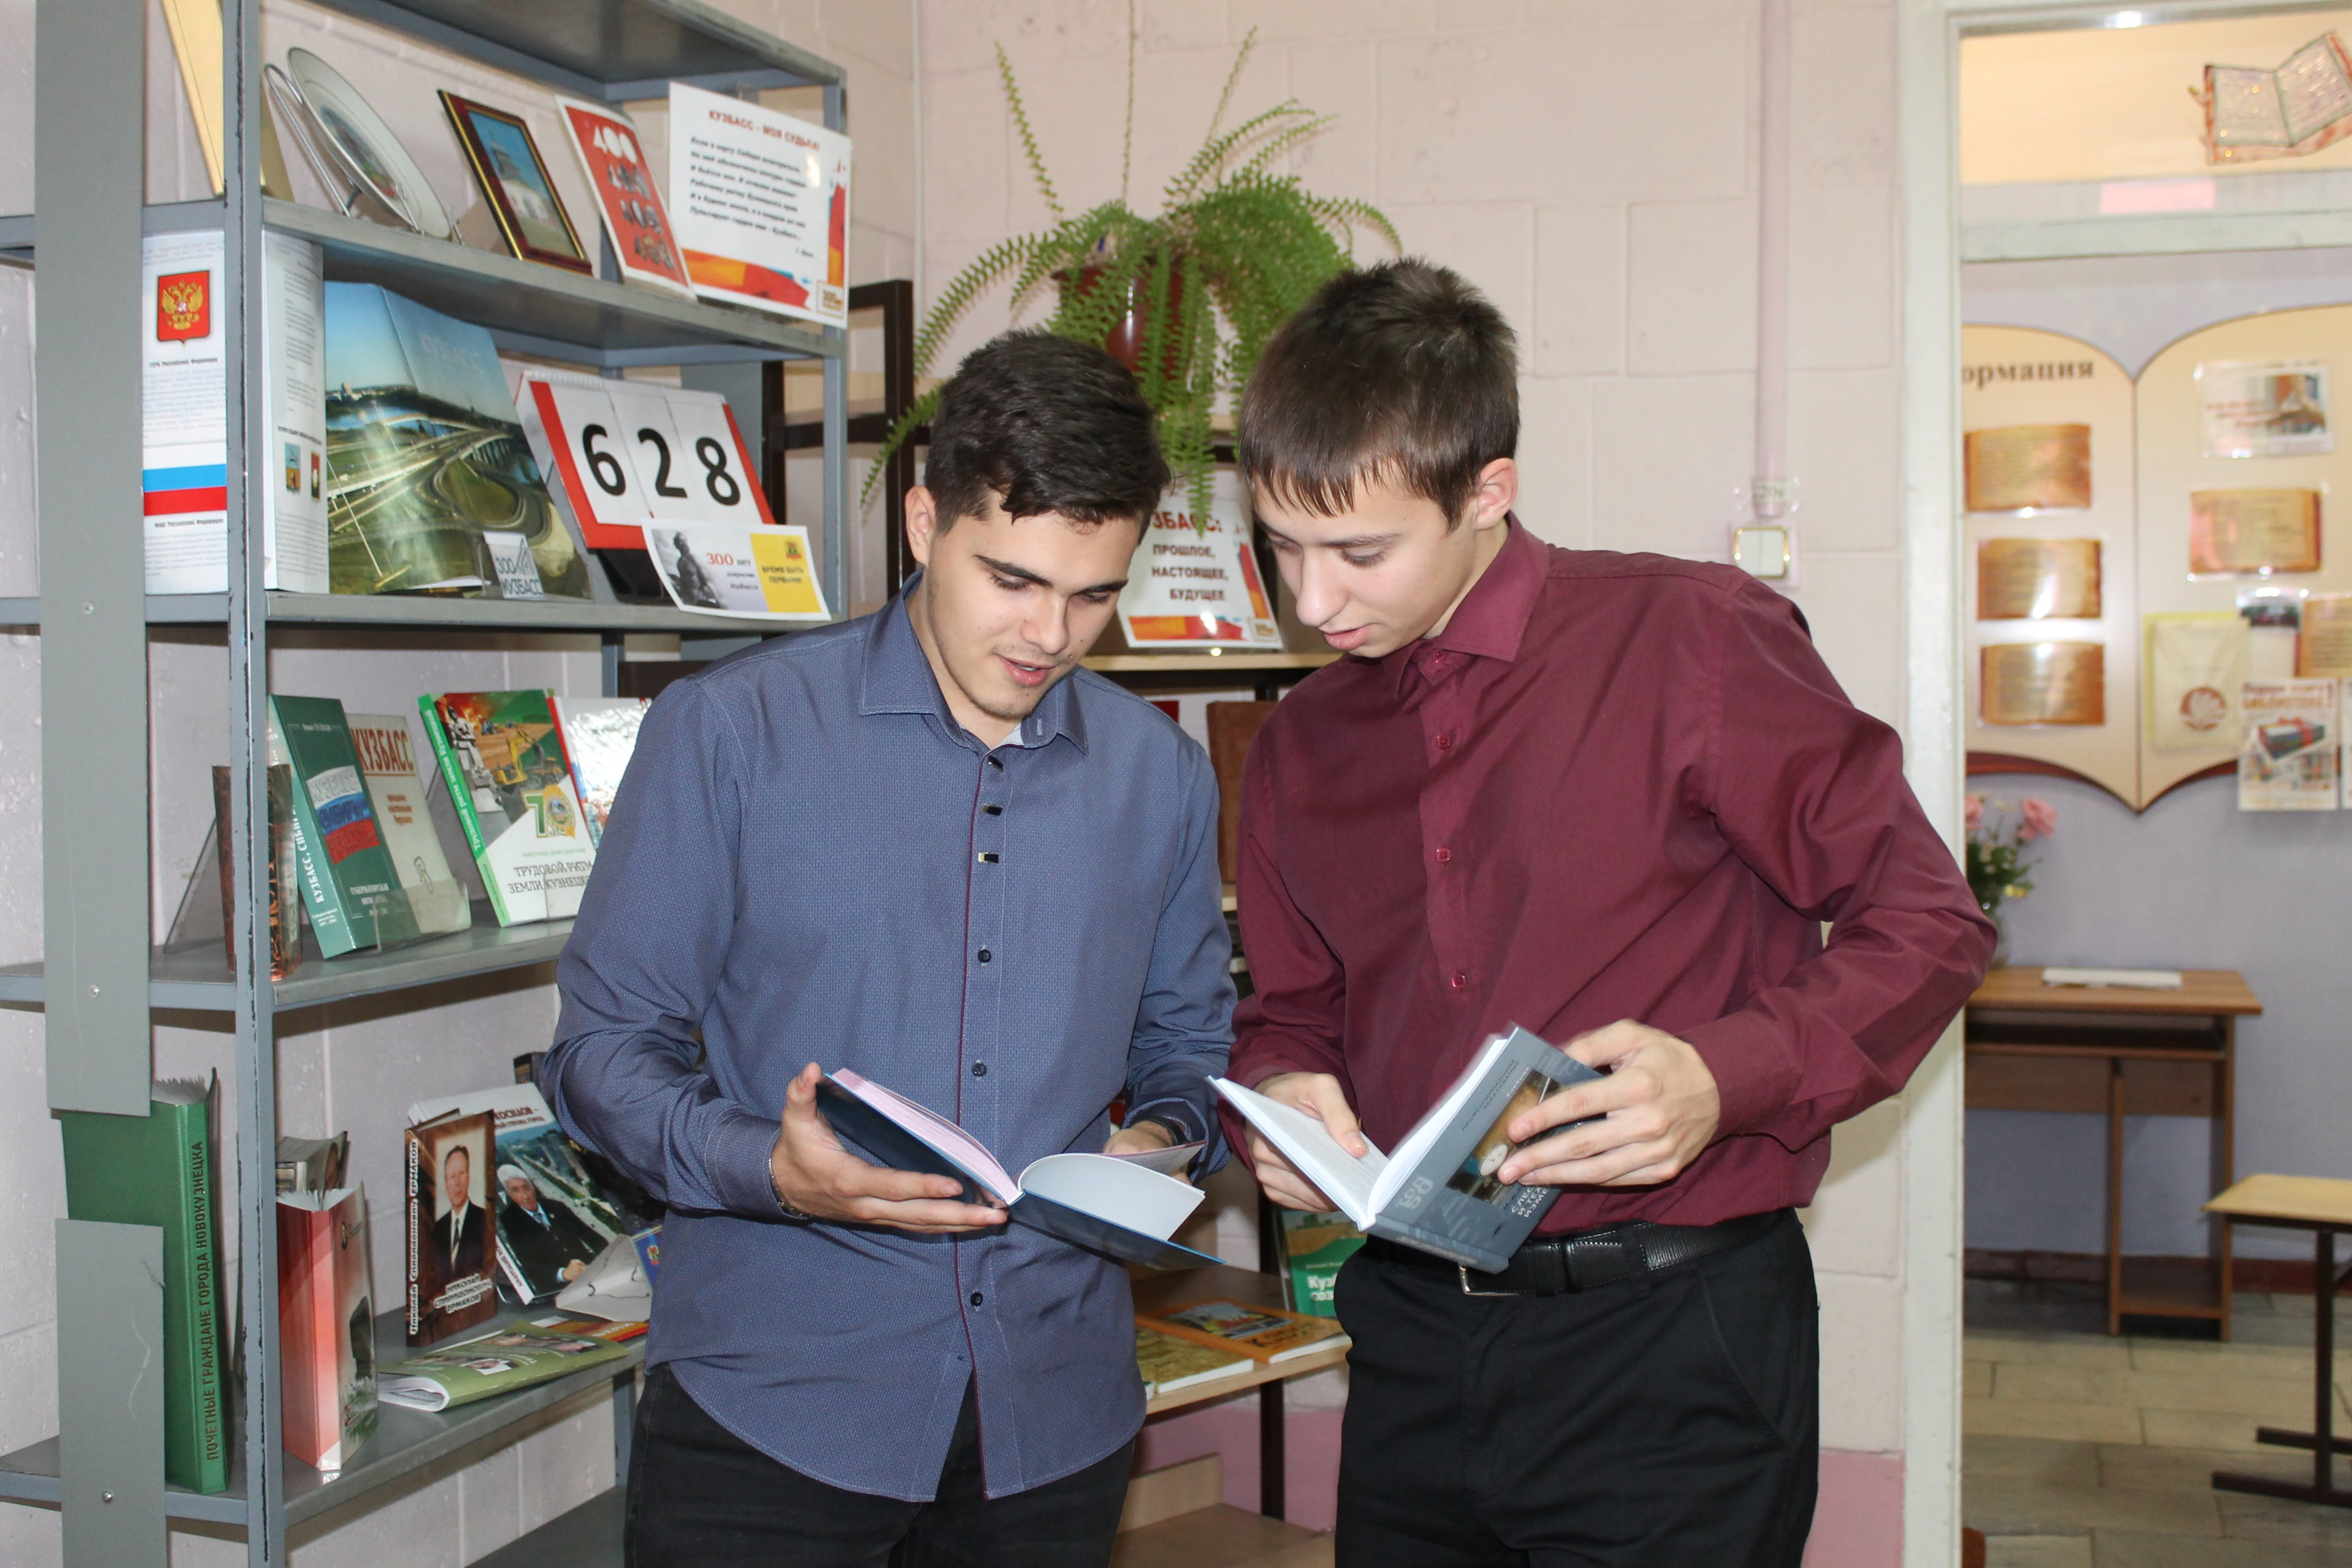students: (1233, 265, 1996, 1562), (547, 327, 1228, 1561)
